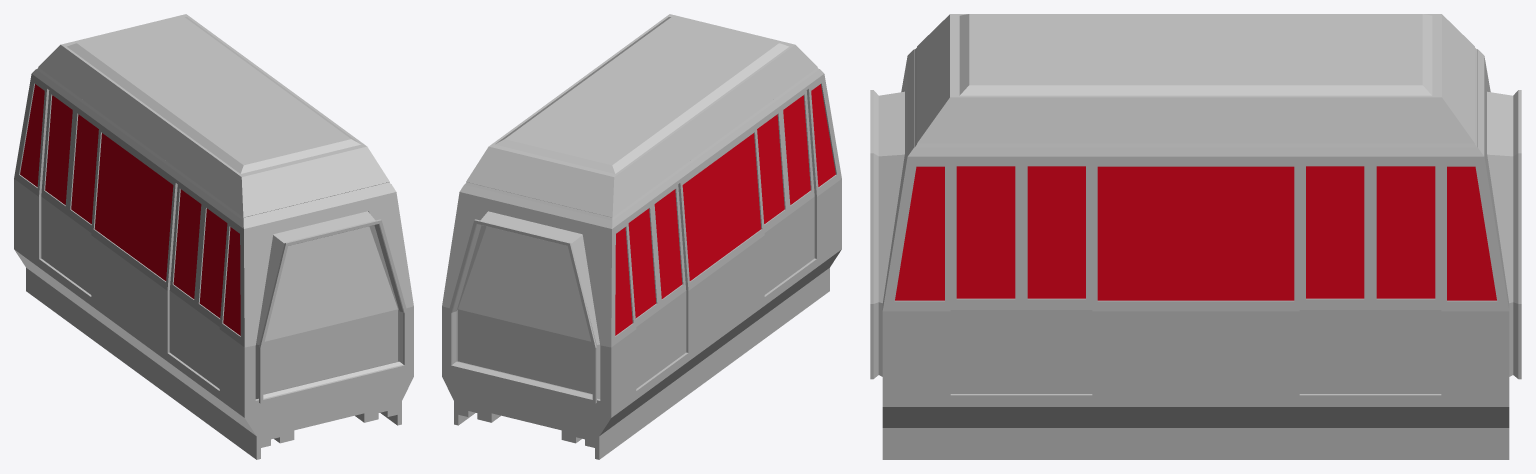
The model's file is SM_monorail_02.gltf.
3 renders of one model, left to right at view 1: azimuth 30°, elevation 25°; view 2: azimuth 150°, elevation 25°; view 3: azimuth 270°, elevation 25°, orthographic. The views are drawn at different scales.
Parts seen in each view (by area): view 1: monorail_02; view 2: monorail_02; view 3: monorail_02.
Boxes of the visible parts, x1,y1,x2,y2 form: monorail_02: (14, 14, 413, 459); monorail_02: (442, 14, 841, 459); monorail_02: (870, 14, 1521, 459).
Bounding box in the file's own units: 1.63 × 2.45 × 4.
